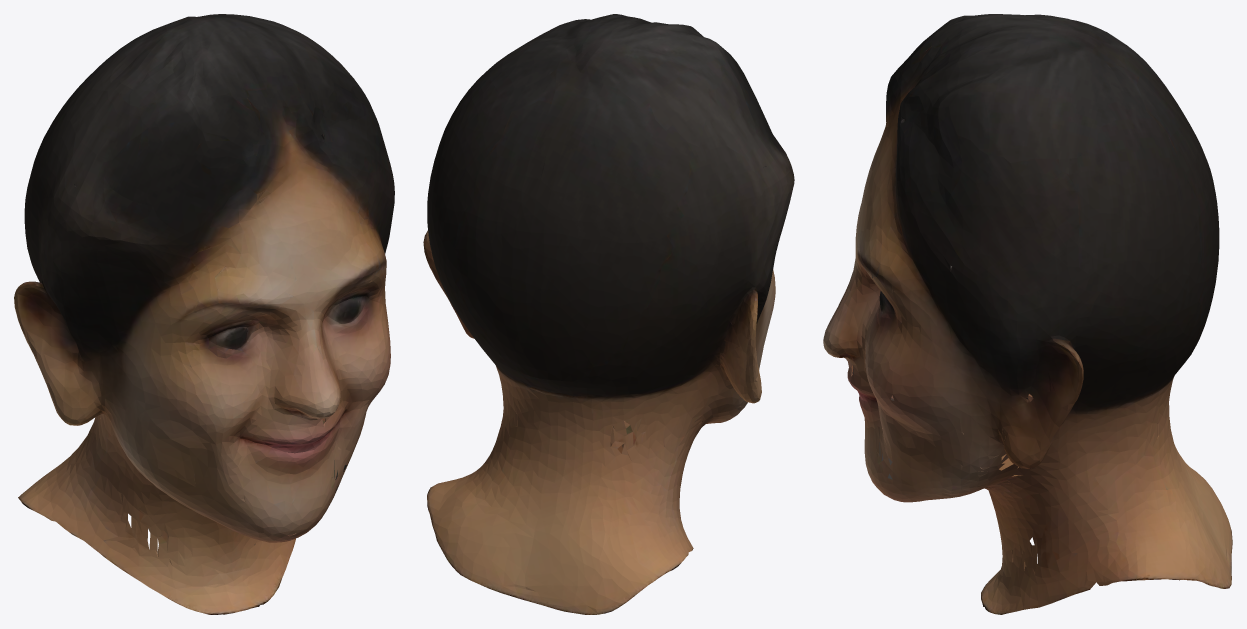
Rendered from head-customer.glb.
3 views of the same model, side by side, from view 1: azimuth 30°, elevation 25°; view 2: azimuth 150°, elevation 25°; view 3: azimuth 270°, elevation 25° (orthographic). The views are drawn at different scales.
Visible parts, largest first — view 1: geometry_0; view 2: geometry_0; view 3: geometry_0.
Part boxes in pixels (x1,y1,x2,y2): geometry_0: (14,14,394,614); geometry_0: (423,14,794,614); geometry_0: (823,14,1232,614).
Bounding box in the file's own units: 0.6593 × 1 × 0.6504.
Materials: 1 (1 with a texture image).
